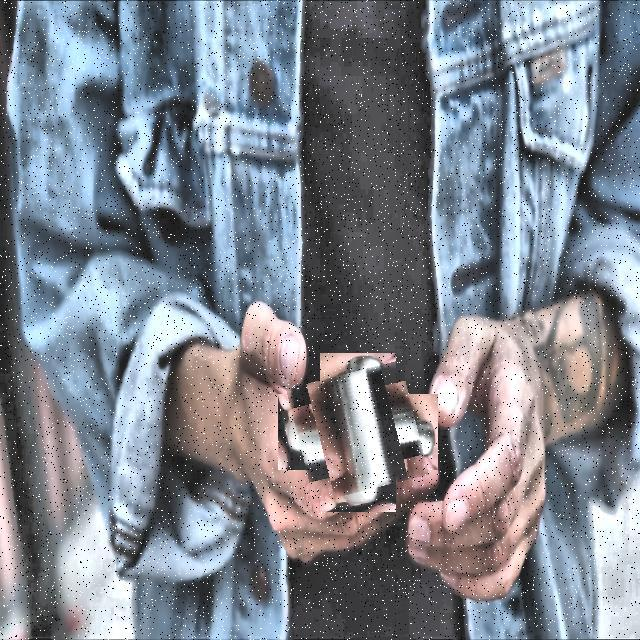Phone: (293, 367, 423, 498)
